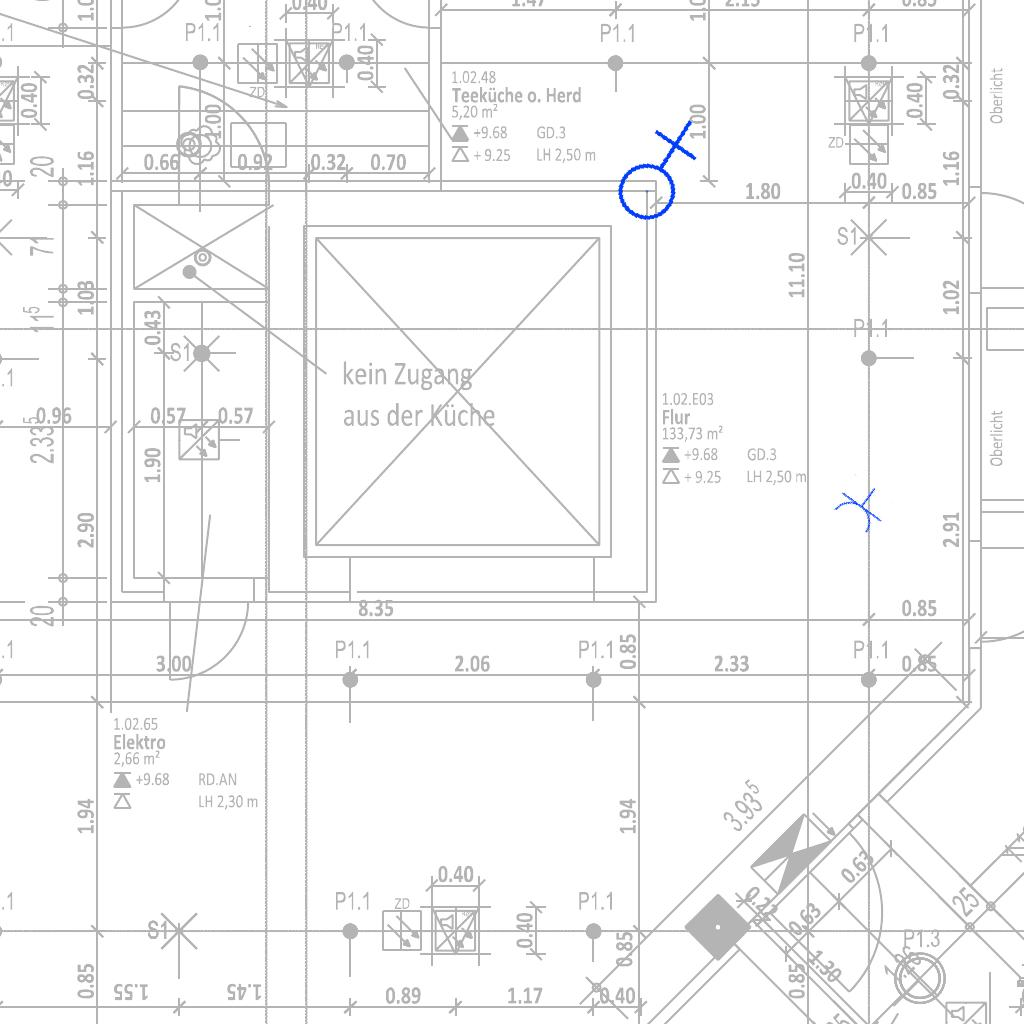Elektroanschluss_allgemein_230V_Geraeteanschlussdose_230V: (595, 114, 714, 230)
Schukosteckdose_einfach: (829, 473, 895, 538)
